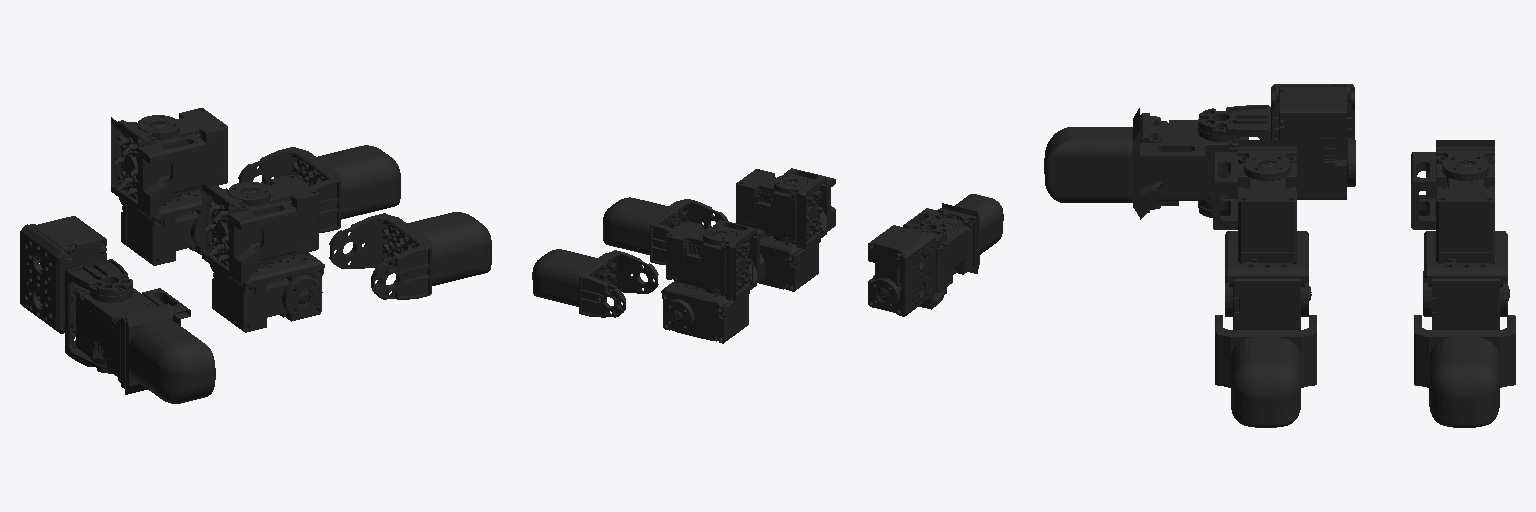
robot.urdf — onshape:
<robot name="onshape">
<link name="palm_lower">
<visual>
<origin xyz="-0.020095249652862544332 0.025757756134899473244 -0.034722403578460216134" rpy="0 -0 0" />
<geometry>
<mesh filename="left_palm.obj"/>
</geometry>
<material name="palm_lower_material">
<color rgba="0.2 0.2 0.2 1.0"/>
</material>
</visual>
<collision>
<origin xyz="-0.020095249652862544332 0.025757756134899473244 -0.034722403578460216134" rpy="0 -0 0" />
<geometry>
<mesh filename="left_palm.obj"/>
</geometry>
</collision>
<inertial>
<origin xyz="0 0 0" rpy="0 0 0"/>
<mass value="0.237" />
<inertia ixx="0.000354094" ixy="-0.000001193"  ixz="-0.000002445" iyy="0.000260915" iyz="-0.000002905" izz="0.000529257" />
</inertial>
</link>

<link name="mcp_joint">
<visual>
<origin xyz="0.0084069022611744960438 0.0077662438597169954416 0.014657354985032912051" rpy="1.6375789613220999807e-15 -1.0210473302491019535e-30 1.7177968783327987474e-31" />
<geometry>
<mesh filename="mcp_cuted.obj"/>
</geometry>
<material name="mcp_joint_material">
<color rgba="0.2 0.2 0.2 1.0"/>
</material>
</visual>
<collision>
<origin xyz="0.0084069022611744960438 0.0077662438597169954416 0.014657354985032912051" rpy="1.6375789613220999807e-15 -1.0210473302491019535e-30 1.7177968783327987474e-31" />
<geometry>
<mesh filename="mcp_cuted.obj"/>
</geometry>
</collision>
<inertial>
<origin xyz="0 0 0" rpy="0 0 0"/>
<mass value="0.044" />
<inertia ixx="0.000011499" ixy="0.000003049"  ixz="0.000000121" iyy="0.000007796" iyz="0.000000112" izz="0.000014759" />
</inertial>
</link>

<link name="pip">
<visual>
<origin xyz="0.0096433630922713280131 0.00029999999999998951117 0.00078403401041737645627" rpy="-1.570796326794896558 -1.570796326794896336 0" />
<geometry>
<mesh filename="pip.obj"/>
</geometry>
<material name="pip_material">
<color rgba="0.2 0.2 0.2 1.0"/>
</material>
</visual>
<collision>
<origin xyz="0.0096433630922713280131 0.00029999999999998951117 0.00078403401041737645627" rpy="-1.570796326794896558 -1.570796326794896336 0" />
<geometry>
<mesh filename="pip.obj"/>
</geometry>
</collision>
<inertial>
<origin xyz="0 0 0" rpy="0 0 0"/>
<mass value="0.032" />
<inertia ixx="0.000004798" ixy="0.000000012"  ixz="0.000000004" iyy="0.000002862" iyz="0.000000011" izz="0.000004234" />
</inertial>
</link>

<link name="dip">
<visual>
<origin xyz="0.021133352895225002849 -0.0084321191467048792201 0.0097850881620952408213" rpy="-3.141592653589793116 4.5075111242164408299e-32 4.4395481053923607589e-32" />
<geometry>
<mesh filename="dip.obj"/>
</geometry>
<material name="dip_material">
<color rgba="0.2 0.2 0.2 1.0"/>
</material>
</visual>
<collision>
<origin xyz="0.021133352895225002849 -0.0084321191467048792201 0.0097850881620952408213" rpy="-3.141592653589793116 4.5075111242164408299e-32 4.4395481053923607589e-32" />
<geometry>
<mesh filename="dip.obj"/>
</geometry>
</collision>
<inertial>
<origin xyz="0 0 0" rpy="0 0 0"/>
<mass value="0.037" />
<inertia ixx="0.000005542" ixy="-0.000000607"  ixz="-0.000000017" iyy="0.000005727" iyz="-0.000000023" izz="0.000006682" />
</inertial>
</link>

<link name="fingertip">
<visual>
<origin xyz="0.013286424108533503169 -0.0061142383865419869249 0.014499999999999497666" rpy="3.141592653589793116 1.1993117970061734707e-33 4.4395481053923607589e-32" />
<geometry>
<mesh filename="fingertip.obj"/>
</geometry>
<material name="fingertip_material">
<color rgba="0.2 0.2 0.2 1.0"/>
</material>
</visual>
<collision>
<origin xyz="0.013286424108533503169 -0.0061142383865419869249 0.014499999999999497666" rpy="3.141592653589793116 1.1993117970061734707e-33 4.4395481053923607589e-32" />
<geometry>
<mesh filename="fingertip.obj"/>
</geometry>
</collision>
<inertial>
<origin xyz="0 0 0" rpy="0 0 0"/>
<mass value="0.016" />
<inertia ixx="0.000003368" ixy="0.000000115"  ixz="0" iyy="0.000001556" iyz="0" izz="0.000002863" />
</inertial>
</link>

<joint name="0" type="revolute">
<origin xyz="-0.012200000000000007713 0.038099999999999994982 0.014500000000000000736" rpy="-1.570796326794896558 -1.0065212660796336576e-15 1.5707963267948943376" />
<parent link="mcp_joint" />
<child link="pip" />
<axis xyz="0 0 1"/>
<limit effort="0.95" velocity="8.48" lower = "-1.047" upper = "1.047"/>
<joint_properties friction="0.0"/>
</joint>

<joint name="1" type="fixed">
<origin xyz="-0.0070952496528625457958 0.050057756134899472233 -0.01872240357846021927" rpy="1.5707963267948950037 1.5707963267948945596 0" />
<parent link="palm_lower" />
<child link="mcp_joint" />
<!-- <axis xyz="0 0 -1"/>
<limit effort="0.95" velocity="8.48" lower = "-0.314" upper = "2.23"/>
<joint_properties friction="0.0"/> -->
</joint>

<joint name="2" type="revolute">
<origin xyz="0.01499999999999996822 0.014299999999999904801 -0.012999999999999824196" rpy="1.5707963267948958919 -1.570796326794896336 0" />
<parent link="pip" />
<child link="dip" />
<axis xyz="0 0 -1"/>
<limit effort="0.95" velocity="8.48" lower = "-0.506" upper = "1.885"/>  
<joint_properties friction="0.0"/>
</joint>

<joint name="3" type="revolute">
<origin xyz="-4.0880582495572692636e-09 -0.036100004210367367397 0.00020000000000007858714" rpy="4.5935029425113685044e-17 -2.8730071914463794583e-16 4.4395481053923607589e-32" />
<parent link="dip" />
<child link="fingertip" />
<axis xyz="0 0 -1"/>
<limit effort="0.95" velocity="8.48" lower = "-0.366" upper = "2.042"/>   
<joint_properties friction="0.0"/>
</joint>

<link name="mcp_joint_2">
<visual>
<origin xyz="0.0084069022611744960438 0.0077662438597169954416 0.014657354985032913786" rpy="1.6375789613220999807e-15 -1.0076465469034000467e-30 2.1209300131419907151e-61" />
<geometry>
<mesh filename="mcp_cuted.obj"/>
</geometry>
<material name="mcp_joint_material">
<color rgba="0.2 0.2 0.2 1.0"/>
</material>
</visual>
<collision>
<origin xyz="0.0084069022611744960438 0.0077662438597169954416 0.014657354985032913786" rpy="1.6375789613220999807e-15 -1.0076465469034000467e-30 2.1209300131419907151e-61" />
<geometry>
<mesh filename="mcp_cuted.obj"/>
</geometry>
</collision>
<inertial>
<origin xyz="0 0 0" rpy="0 0 0"/>
<mass value="0.044" />
<inertia ixx="0.000011499" ixy="0.000003049"  ixz="0.000000121" iyy="0.000007796" iyz="0.000000112" izz="0.000014759" />
</inertial>
</link>

<link name="pip_2">
<visual>
<origin xyz="0.0096433630922713280131 0.00029999999999999471534 0.00078403401041737645627" rpy="-1.570796326794896558 -1.570796326794896336 0" />
<geometry>
<mesh filename="pip.obj"/>
</geometry>
<material name="pip_material">
<color rgba="0.2 0.2 0.2 1.0"/>
</material>
</visual>
<collision>
<origin xyz="0.0096433630922713280131 0.00029999999999999471534 0.00078403401041737645627" rpy="-1.570796326794896558 -1.570796326794896336 0" />
<geometry>
<mesh filename="pip.obj"/>
</geometry>
</collision>
<inertial>
<origin xyz="0 0 0" rpy="0 0 0"/>
<mass value="0.032" />
<inertia ixx="0.000004798" ixy="0.000000012"  ixz="0.000000004" iyy="0.000002862" iyz="0.000000011" izz="0.000004234" />
</inertial>
</link>

<link name="dip_2">
<visual>
<origin xyz="0.021133352895225002849 -0.0084321191467048653423 0.0097850881620952373519" rpy="-3.141592653589793116 2.1146933785271955805e-32 1.4408183216511868558e-31" />
<geometry>
<mesh filename="dip.obj"/>
</geometry>
<material name="dip_material">
<color rgba="0.2 0.2 0.2 1.0"/>
</material>
</visual>
<collision>
<origin xyz="0.021133352895225002849 -0.0084321191467048653423 0.0097850881620952373519" rpy="-3.141592653589793116 2.1146933785271955805e-32 1.4408183216511868558e-31" />
<geometry>
<mesh filename="dip.obj"/>
</geometry>
</collision>
<inertial>
<origin xyz="0 0 0" rpy="0 0 0"/>
<mass value="0.037" />
<inertia ixx="0.000005542" ixy="-0.000000607"  ixz="-0.000000017" iyy="0.000005727" iyz="-0.000000023" izz="0.000006682" />
</inertial>
</link>

<link name="fingertip_2">
<visual>
<origin xyz="0.01328642410853349623 -0.0061142383865420008027 0.014499999999999495931" rpy="3.141592653589793116 -4.3179597882835943107e-33 1.4408183216511868558e-31" />
<geometry>
<mesh filename="fingertip.obj"/>
</geometry>
<material name="fingertip_material">
<color rgba="0.2 0.2 0.2 1.0"/>
</material>
</visual>
<collision>
<origin xyz="0.01328642410853349623 -0.0061142383865420008027 0.014499999999999495931" rpy="3.141592653589793116 -4.3179597882835943107e-33 1.4408183216511868558e-31" />
<geometry>
<mesh filename="fingertip.obj"/>
</geometry>
</collision>
<inertial>
<origin xyz="0 0 0" rpy="0 0 0"/>
<mass value="0.016" />
<inertia ixx="0.000003368" ixy="0.000000115"  ixz="0" iyy="0.000001556" iyz="0" izz="0.000002863" />
</inertial>
</link>

<joint name="4" type="revolute">
<origin xyz="-0.012200000000000019856 0.038099999999999981104 0.01450000000000000594" rpy="-1.570796326794896558 -1.0065212760057939085e-15 1.5707963267948943376" />
<parent link="mcp_joint_2" />
<child link="pip_2" />
<axis xyz="0 0 1"/>
<limit effort="0.95" velocity="8.48" lower = "-1.047" upper = "1.047"/>
<joint_properties friction="0.0"/>
</joint>

<joint name="5" type="fixed">
<origin xyz="-0.0070952496528625388569 -0.017392243865100525113 -0.018722403578460229678" rpy="1.570796326794896558 1.570796326794896558 0" />
<parent link="palm_lower" />
<child link="mcp_joint_2" />
<!-- <axis xyz="0 0 -1"/>
<limit effort="0.95" velocity="8.48" lower = "-0.314" upper = "2.23"/>
<joint_properties friction="0.0"/> -->
</joint>

<joint name="6" type="revolute">
<origin xyz="0.014999999999999975159 0.014300000000000000211 -0.013000000000000018485" rpy="1.5707963267948958919 -1.570796326794896336 0" />
<parent link="pip_2" />
<child link="dip_2" />
<axis xyz="0 0 -1"/>
<limit effort="0.95" velocity="8.48" lower = "-0.506" upper = "1.885"/>  
<joint_properties friction="0.0"/>
</joint>

<joint name="7" type="revolute">
<origin xyz="1.0061396160665481148e-16 -0.036099999999999854428 0.00020000000000007858714" rpy="4.5935029425113654229e-17 -2.8730071914463794583e-16 1.4408183216511868558e-31" />
<parent link="dip_2" />
<child link="fingertip_2" />
<axis xyz="0 0 -1"/>
<limit effort="0.95" velocity="8.48" lower = "-0.366" upper = "2.042"/>   
<joint_properties friction="0.0"/>
</joint>

<link name="pip_4">
<visual>
<origin xyz="-0.0053566369077286714317 0.00029999999999999991951 0.00078403401041737819099" rpy="-1.570796326794896558 -1.570796326794896336 0" />
<geometry>
<mesh filename="pip.obj"/>
</geometry>
<material name="pip_material">
<color rgba="0.2 0.2 0.2 1.0"/>
</material>
</visual>
<collision>
<origin xyz="-0.0053566369077286714317 0.00029999999999999991951 0.00078403401041737819099" rpy="-1.570796326794896558 -1.570796326794896336 0" />
<geometry>
<mesh filename="pip.obj"/>
</geometry>
</collision>
<inertial>
<origin xyz="0 0 0" rpy="0 0 0"/>
<mass value="0.032" />
<inertia ixx="0.000004798" ixy="0.000000012"  ixz="0.000000004" iyy="0.000002862" iyz="0.000000011" izz="0.000004234" />
</inertial>
</link>

<link name="thumb_pip">
<visual>
<origin xyz="0.011961920770611186859 -5.3082538364890297089e-16 -0.015852648956664199681" rpy="1.570796326794896558 1.6050198443300152637e-46 -3.9204996250525192755e-59" />
<geometry>
<mesh filename="thumb_pip.obj"/>
</geometry>
<material name="thumb_pip_material">
<color rgba="0.2 0.2 0.2 1.0"/>
</material>
</visual>
<collision>
<origin xyz="0.011961920770611186859 -5.3082538364890297089e-16 -0.015852648956664199681" rpy="1.570796326794896558 1.6050198443300152637e-46 -3.9204996250525192755e-59" />
<geometry>
<mesh filename="thumb_pip.obj"/>
</geometry>
</collision>
<inertial>
<origin xyz="0 0 0" rpy="0 0 0"/>
<mass value="0.003" />
<inertia ixx="0.000000593" ixy="0"  ixz="0" iyy="0.000000549" iyz="0" izz="0.000000224" />
</inertial>
</link>

<link name="thumb_dip">
<visual>
<origin xyz="0.043968715707239175439 0.057952952973709198625 -0.0086286764493694757122" rpy="1.9428902930940098942e-16 3.2751579226442200773e-15 1.1123758529657360012e-46" />
<geometry>
<mesh filename="thumb_dip_tip.obj"/>
</geometry>
<material name="thumb_dip_material">
<color rgba="0.2 0.2 0.2 1.0"/>
</material>
</visual>
<collision>
<origin xyz="0.043968715707239175439 0.057952952973709198625 -0.0086286764493694757122" rpy="1.9428902930940098942e-16 3.2751579226442200773e-15 1.1123758529657360012e-46" />
<geometry>
<mesh filename="thumb_dip_tip.obj"/>
</geometry>
</collision>
<inertial>
<origin xyz="0 0 0" rpy="0 0 0"/>
<mass value="0.038" />
<inertia ixx="0.000008474" ixy="0.000000241"  ixz="0.000000026" iyy="0.000003841" iyz="0.000000025" izz="0.000007679" />
</inertial>
</link>

<joint name="12" type="revolute">
<origin xyz="-0.050395249652862533996 -0.0162422438651005258004 -0.009622403578460215601" rpy="3.14 1.5707963267948956698 0" />
<parent link="palm_lower" />
<child link="pip_4" />
<axis xyz="0 0 -1"/>
<limit effort="0.95" velocity="8.48" lower = "-0.349" upper = "2.094"/> 
<joint_properties friction="0.0"/>
</joint>

<joint name="13" type="revolute">
<origin xyz="-2.7755575615628913511e-17 0.014300000000000005415 -0.013000000000000011546" rpy="1.5707963267948958919 -1.570796326794896336 0" />
<parent link="pip_4" />
<child link="thumb_pip" />
<axis xyz="0 0 1"/>
<limit effort="0.95" velocity="8.48" lower = "-0.47" upper = "2.443"/> 
<joint_properties friction="0.0"/>
</joint>

<joint name="14" type="revolute">
<origin xyz="0 0.014499999999999966041 -0.017000000000000053263" rpy="-1.570796326794896558 1.6050198443300131245e-46 -1.9721522630516624601e-31" />
<parent link="thumb_pip" />
<child link="thumb_dip" />
<axis xyz="0 0 1"/>
<limit effort="0.95" velocity="8.48" lower = "-1.20" upper = "1.90"/> 
<joint_properties friction="0.0"/>
</joint>

</robot>

--- What the picture shows (computed from the rendered views, not written in the file) ---
3 views of the same robot in one strip: view 1: azimuth 30°, elevation 25°; view 2: azimuth 150°, elevation 25°; view 3: azimuth 270°, elevation 25° (orthographic).
Model onshape with 12 links and 11 joints (9 revolute, 2 fixed), rooted at palm_lower, posed all joints at 0.
Links seen in each view (by area): view 1: thumb_dip, fingertip_2, mcp_joint_2, mcp_joint, fingertip, pip_4, pip_2, pip, thumb_pip; view 2: mcp_joint, mcp_joint_2, fingertip, pip_4, thumb_dip, fingertip_2, pip, pip_2, thumb_pip; view 3: thumb_dip, mcp_joint_2, mcp_joint, fingertip, fingertip_2, pip_4, pip, pip_2, thumb_pip.
Boxes of the visible links, left/top/right/bottom form: thumb_dip: left=76, top=288, right=215, bottom=403; fingertip_2: left=329, top=212, right=491, bottom=299; mcp_joint_2: left=202, top=175, right=318, bottom=283; mcp_joint: left=111, top=108, right=227, bottom=216; fingertip: left=238, top=145, right=400, bottom=232; pip_4: left=20, top=216, right=106, bottom=333; pip_2: left=210, top=252, right=324, bottom=332; pip: left=119, top=186, right=220, bottom=265; thumb_pip: left=65, top=259, right=132, bottom=373; mcp_joint: left=666, top=220, right=764, bottom=300; mcp_joint_2: left=736, top=168, right=835, bottom=248; fingertip: left=532, top=249, right=658, bottom=317; pip_4: left=868, top=225, right=935, bottom=316; thumb_dip: left=903, top=194, right=1003, bottom=292; fingertip_2: left=603, top=197, right=728, bottom=264; pip: left=661, top=281, right=749, bottom=343; pip_2: left=759, top=235, right=820, bottom=291; thumb_pip: left=908, top=220, right=946, bottom=309; thumb_dip: left=1044, top=108, right=1248, bottom=219; mcp_joint_2: left=1213, top=140, right=1296, bottom=262; mcp_joint: left=1411, top=140, right=1494, bottom=262; fingertip: left=1414, top=315, right=1515, bottom=427; fingertip_2: left=1215, top=315, right=1316, bottom=427; pip_4: left=1271, top=84, right=1355, bottom=199; pip: left=1423, top=231, right=1509, bottom=329; pip_2: left=1225, top=231, right=1311, bottom=329; thumb_pip: left=1198, top=105, right=1270, bottom=217.
Bounding box of the posed robot: 0.182 × 0.16 × 0.0549 m (x, y, z).
9 mesh visuals loaded from 7 distinct referenced files (5 OBJ); not drawn: 3 (reference not matched to a file when rendering).